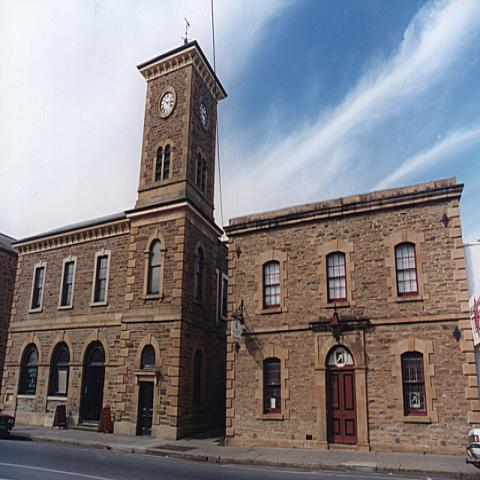car: (465, 428, 480, 469), (0, 410, 15, 438)
